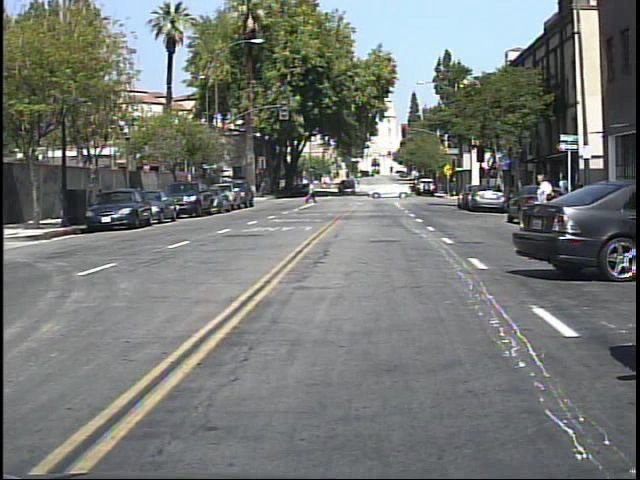person: (526, 167, 559, 245), (304, 176, 321, 208)
